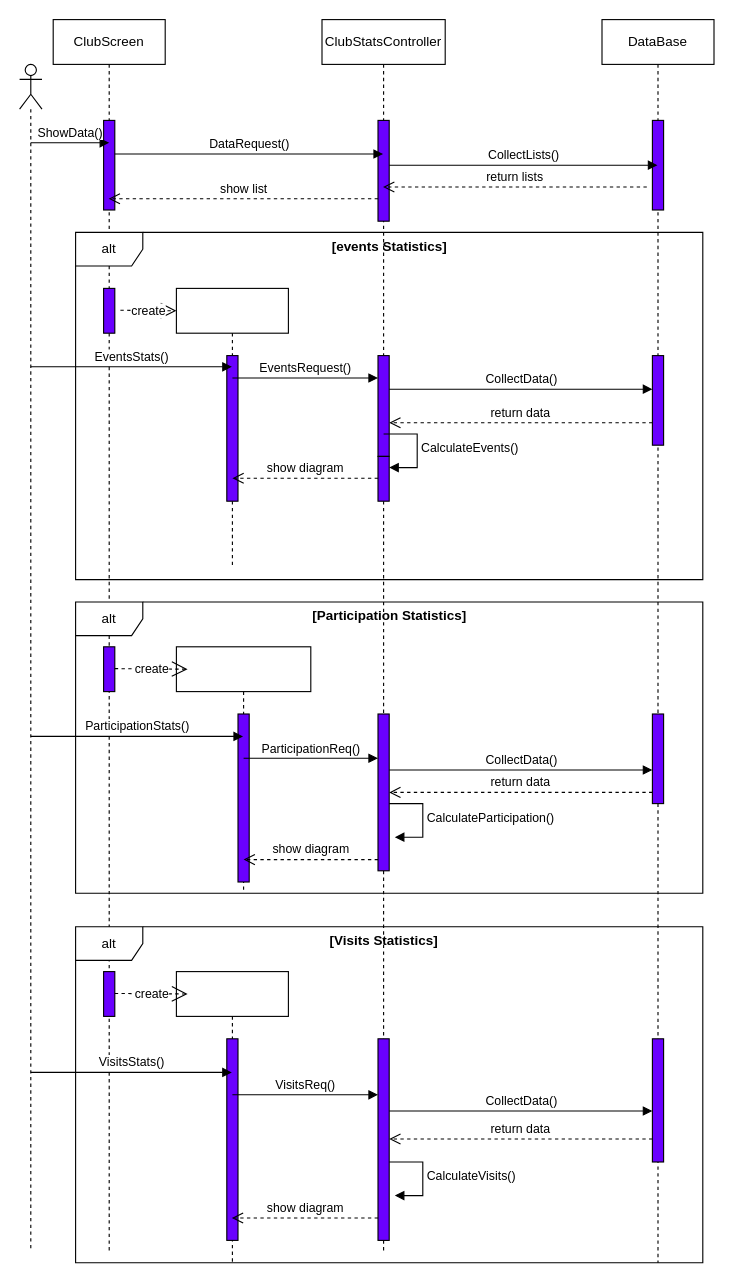
The diagram is 734 pixels wide and 1282 high, and some of its shapes have lost their labels. The shapes that lost their labels are listed below. From the top down, each one's box as (x1, y1, x2, y2) in pixels, then its label:
(175, 287, 288, 568): EventsScreen
(175, 646, 311, 893): ParticipationScreen
(175, 970, 288, 1263): VisitsScreen
